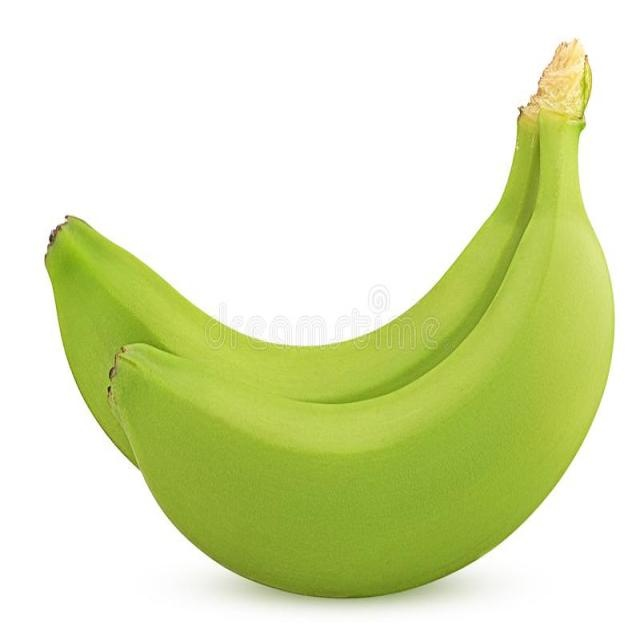agrume: (42, 52, 617, 605)
